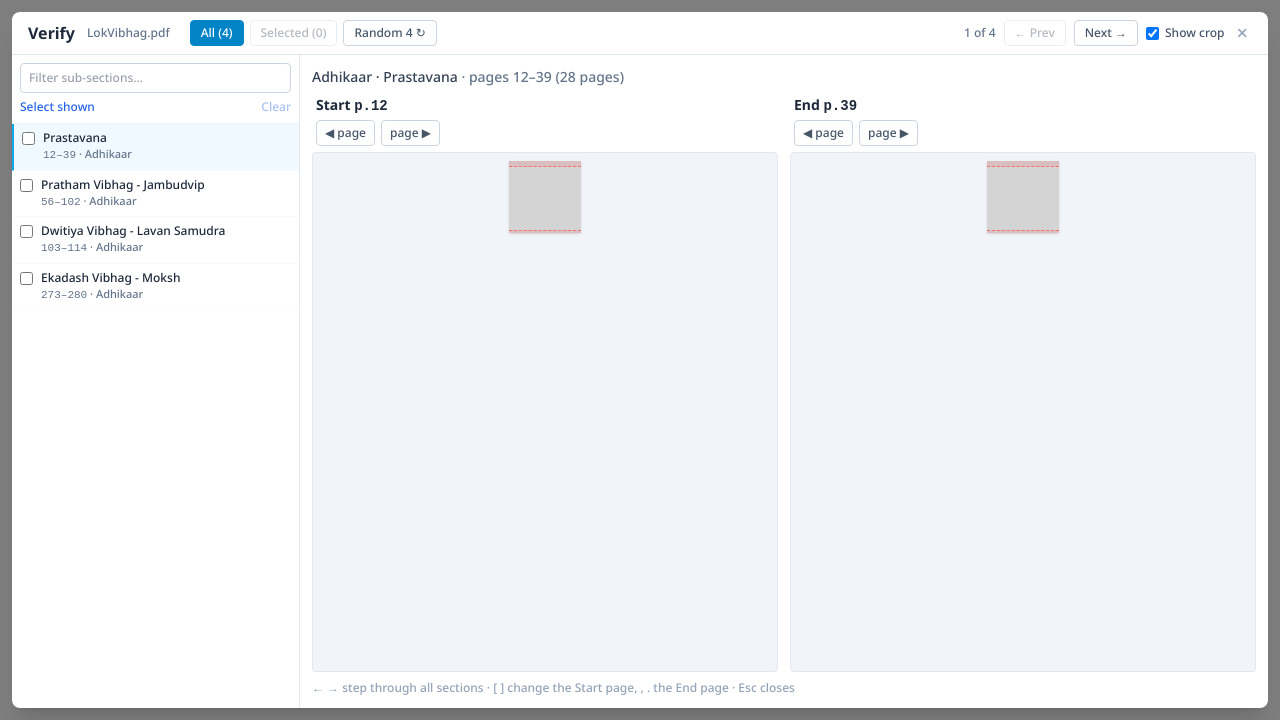
Test: the scan_config crop shows as bands that can be hidden, and is not drawn for multi-page books
Expected: the number of elements with test id "crop-band" is 4, [509,161,581,168]; [509,230,581,233]; [987,161,1059,168]; [987,230,1059,233]
What coordinates should you click on to do the following:
click the checkbox labelled "Show crop"
I would click on:
 (1152, 33)
Its box is [1146,26,1159,40].
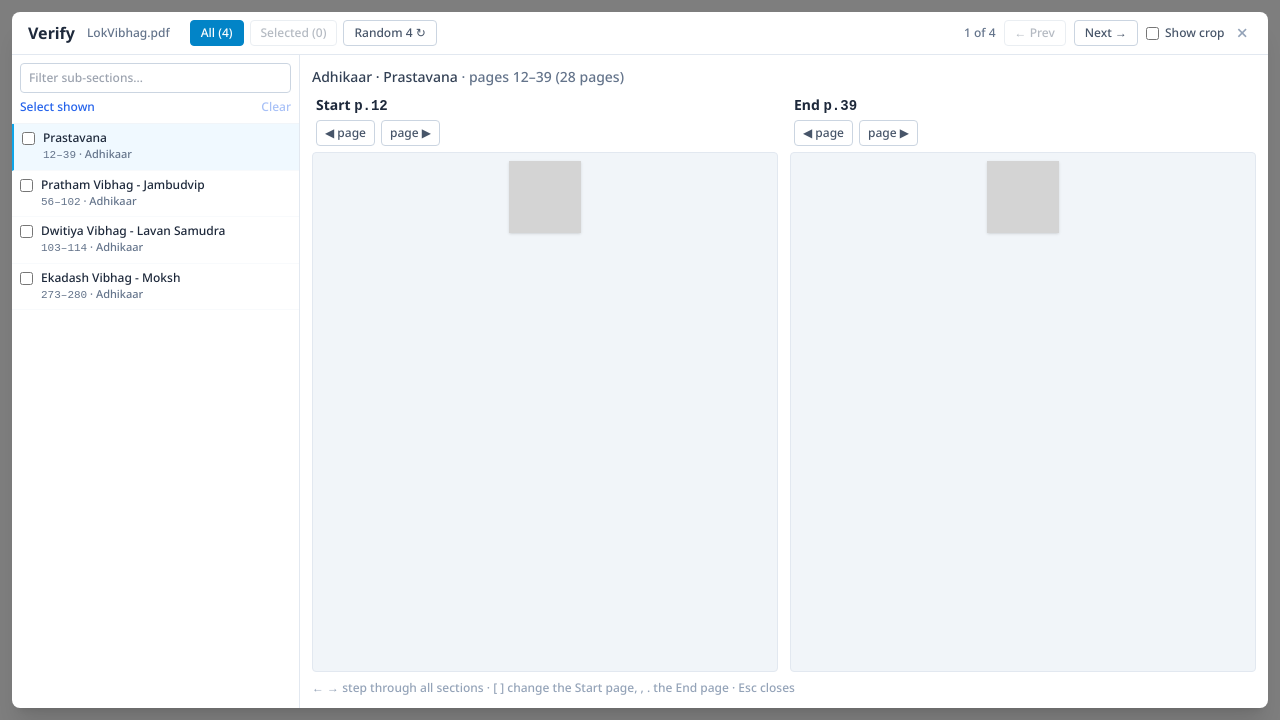
Result: no elements with test id "crop-band" are shown
